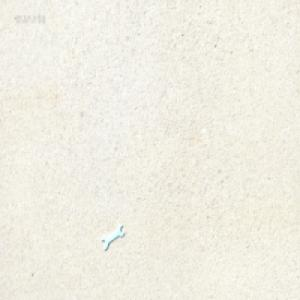Wrench: (101, 221, 124, 249)
